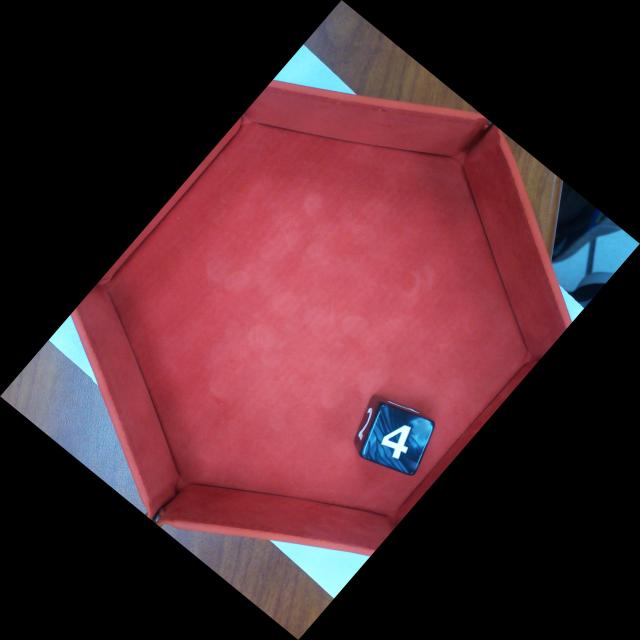dice: (363, 400, 436, 471)
